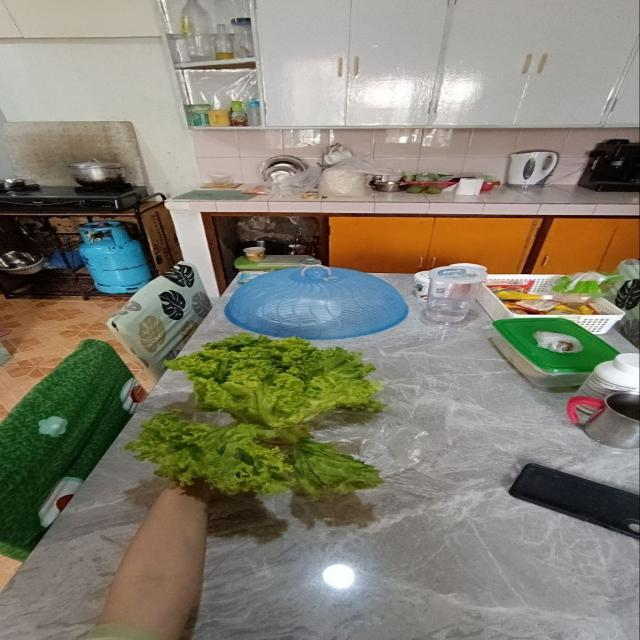Lettuce-Ready-to-Harvest: (127, 334, 389, 503)
